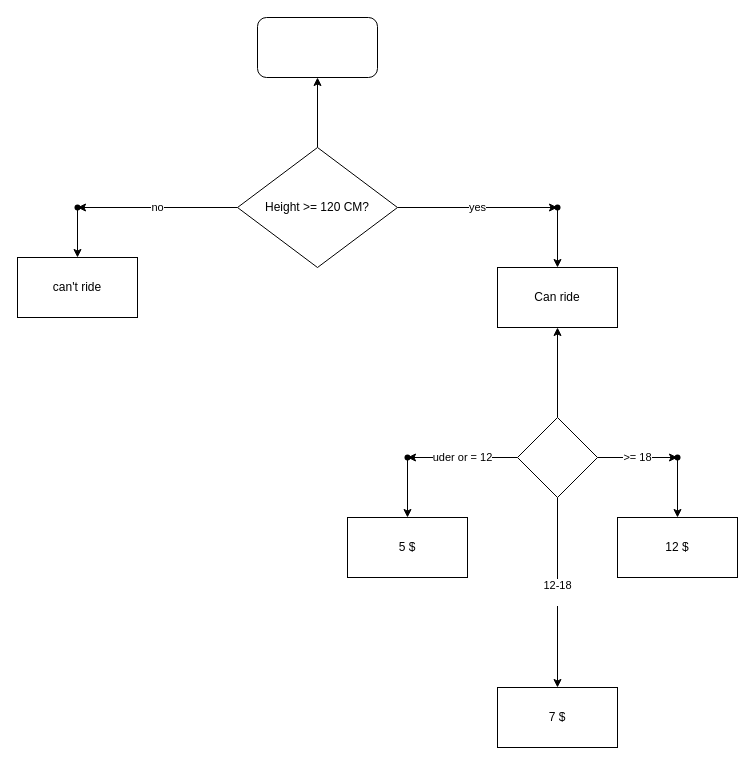
This 755x765 diagram has some shape labels left out. Each missing label, with the centre of its shape:
age ?: [557,457]
Start: [317,47]
